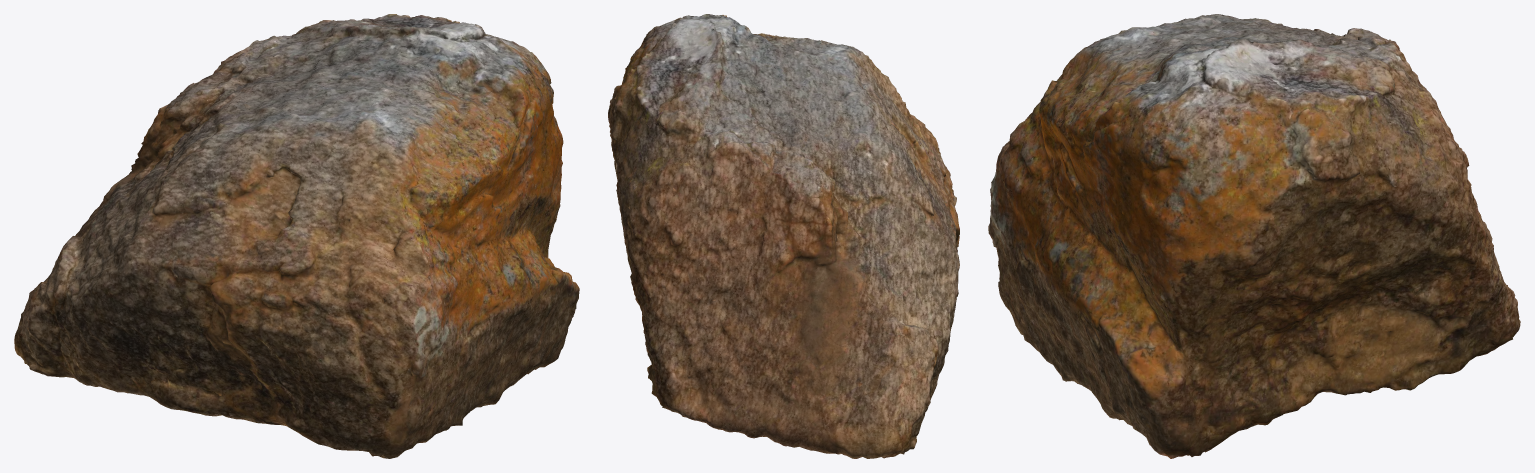
File: boulder_small.glb
3 renders of one model, left to right at view 1: azimuth 30°, elevation 25°; view 2: azimuth 150°, elevation 25°; view 3: azimuth 270°, elevation 25°, orthographic. The views are drawn at different scales.
Visible parts, largest first — view 1: boulder_04; view 2: boulder_04; view 3: boulder_04.
Boxes of the visible parts, x1,y1,x2,y2 form: boulder_04: (14, 14, 579, 458); boulder_04: (608, 14, 959, 458); boulder_04: (988, 14, 1520, 458).
Size of the model in its own units: 2.52 by 1.9 by 2.5.
1 material, 1 textured.
